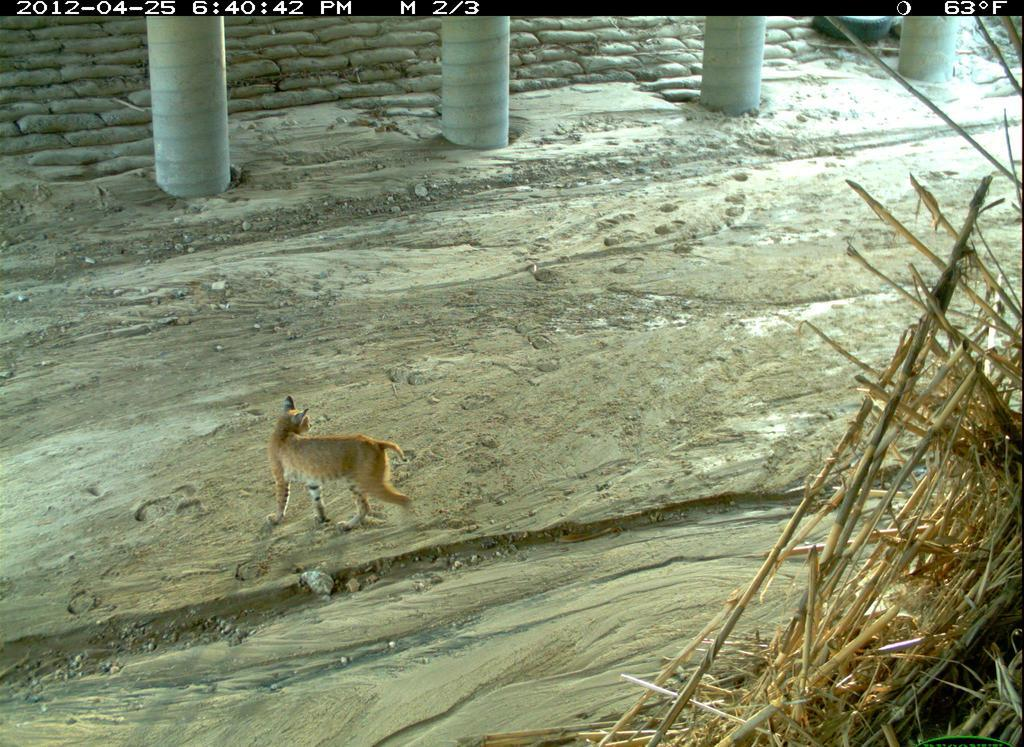bobcat: (253, 393, 423, 542)
